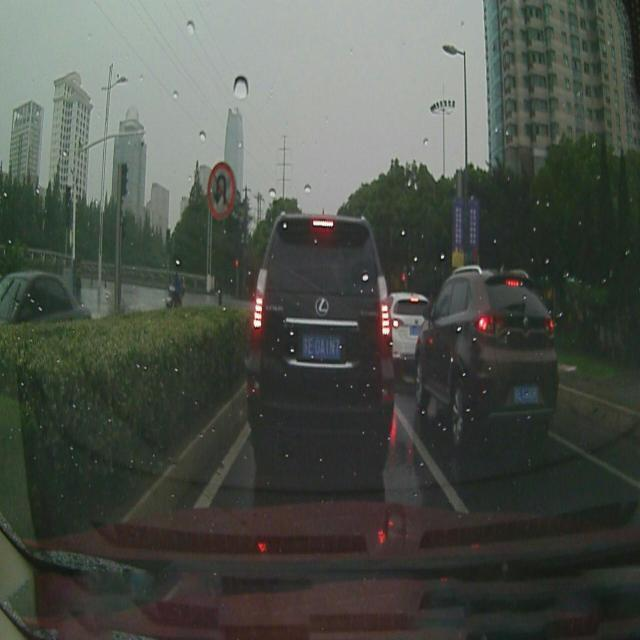car: (246, 210, 395, 478), (413, 264, 558, 448), (0, 270, 91, 323), (386, 292, 431, 383)
